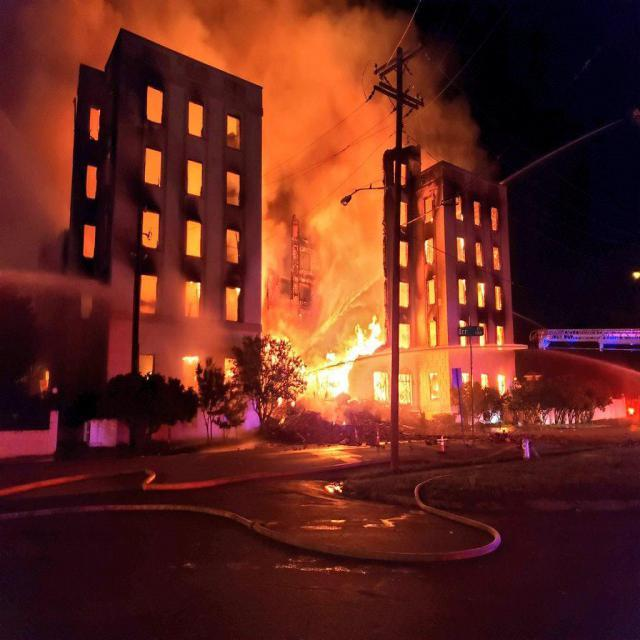Fire: (263, 249, 428, 407)
